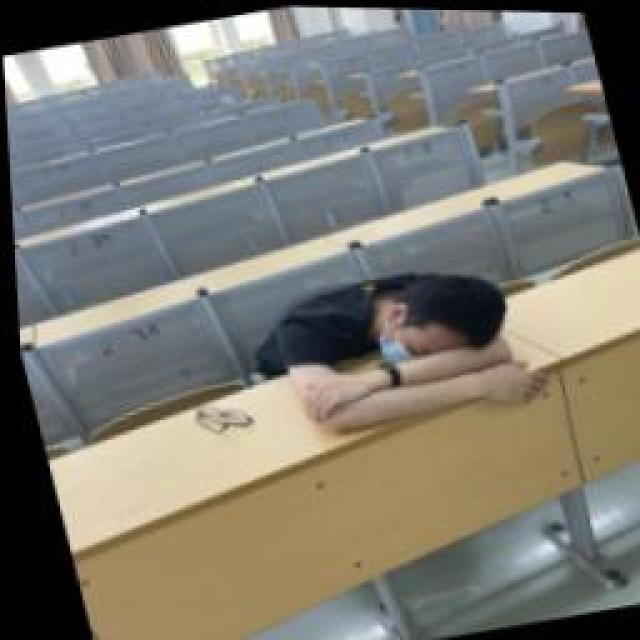sleep: (235, 250, 550, 452)
